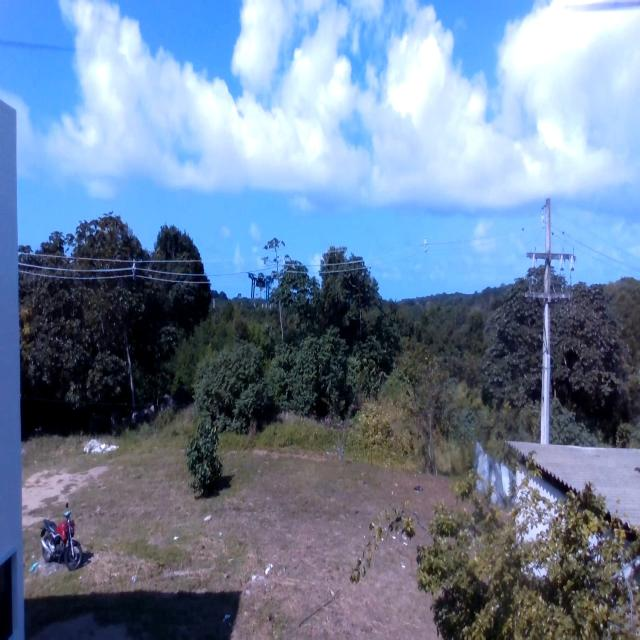-uav-: (248, 265, 274, 314)
